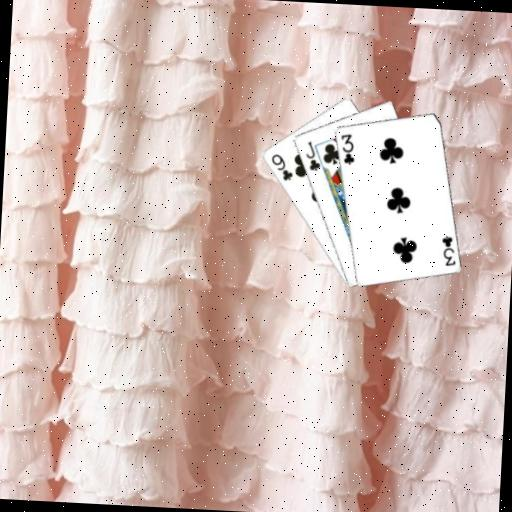3C: (437, 232, 459, 268), (337, 130, 358, 166)
9C: (266, 151, 295, 183)
JC: (302, 139, 323, 173)
